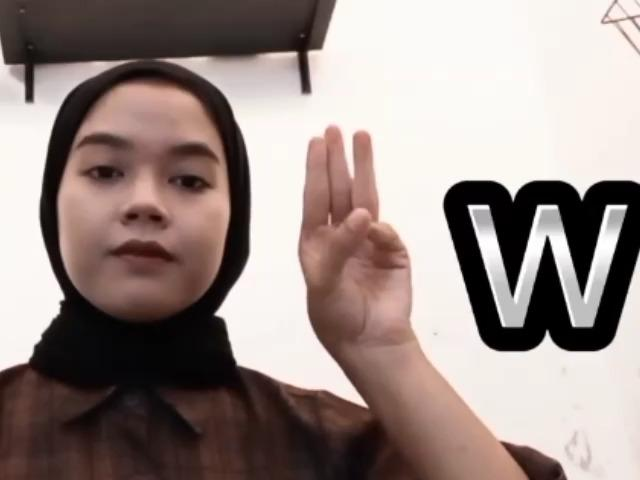W: (298, 118, 414, 352)
